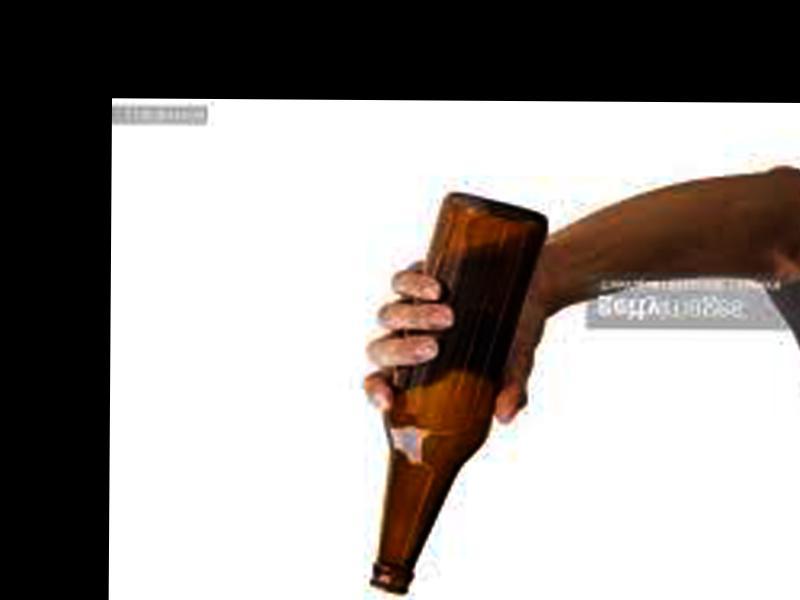Beer: (370, 195, 551, 593)
